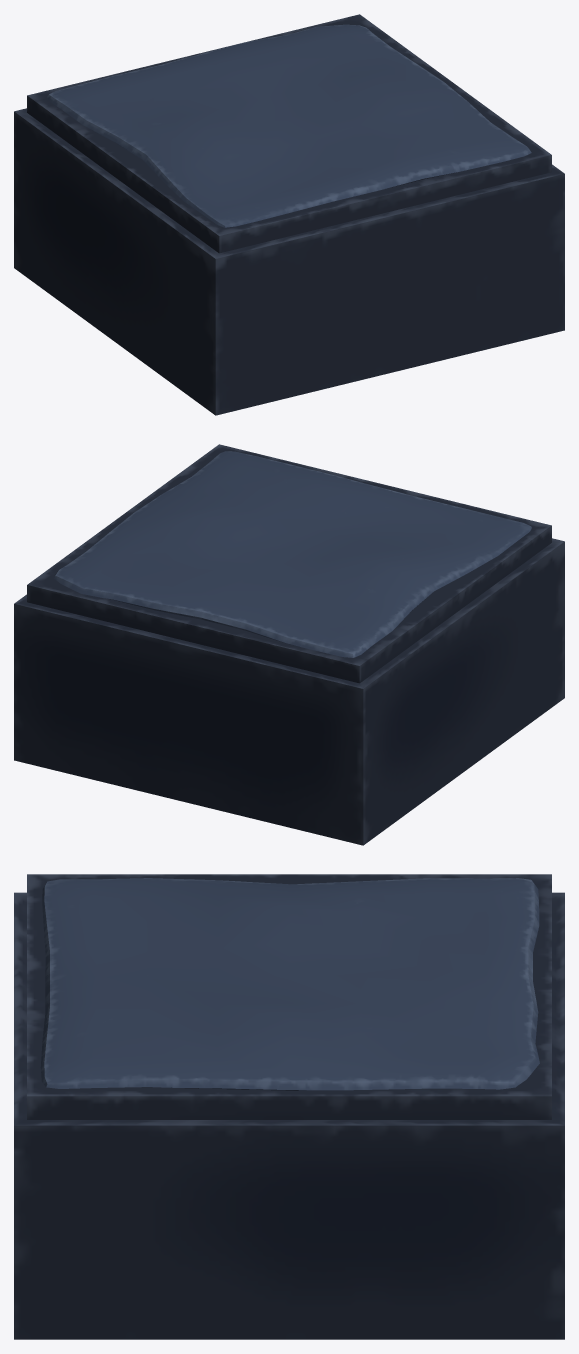
The model's file is Floor1-5.fbx.
3 views of the same model, one above another, from view 1: azimuth 30°, elevation 25°; view 2: azimuth 150°, elevation 25°; view 3: azimuth 270°, elevation 25° (orthographic). The views are drawn at different scales.
Visible parts, largest first — view 1: FloorTileB5; view 2: FloorTileB5; view 3: FloorTileB5.
Part boxes in pixels (x1,y1,x2,y2): FloorTileB5: (14, 14, 564, 415); FloorTileB5: (14, 444, 564, 845); FloorTileB5: (14, 874, 564, 1339).
Size of the model in its own units: 2.1 by 1.1 by 2.1.
